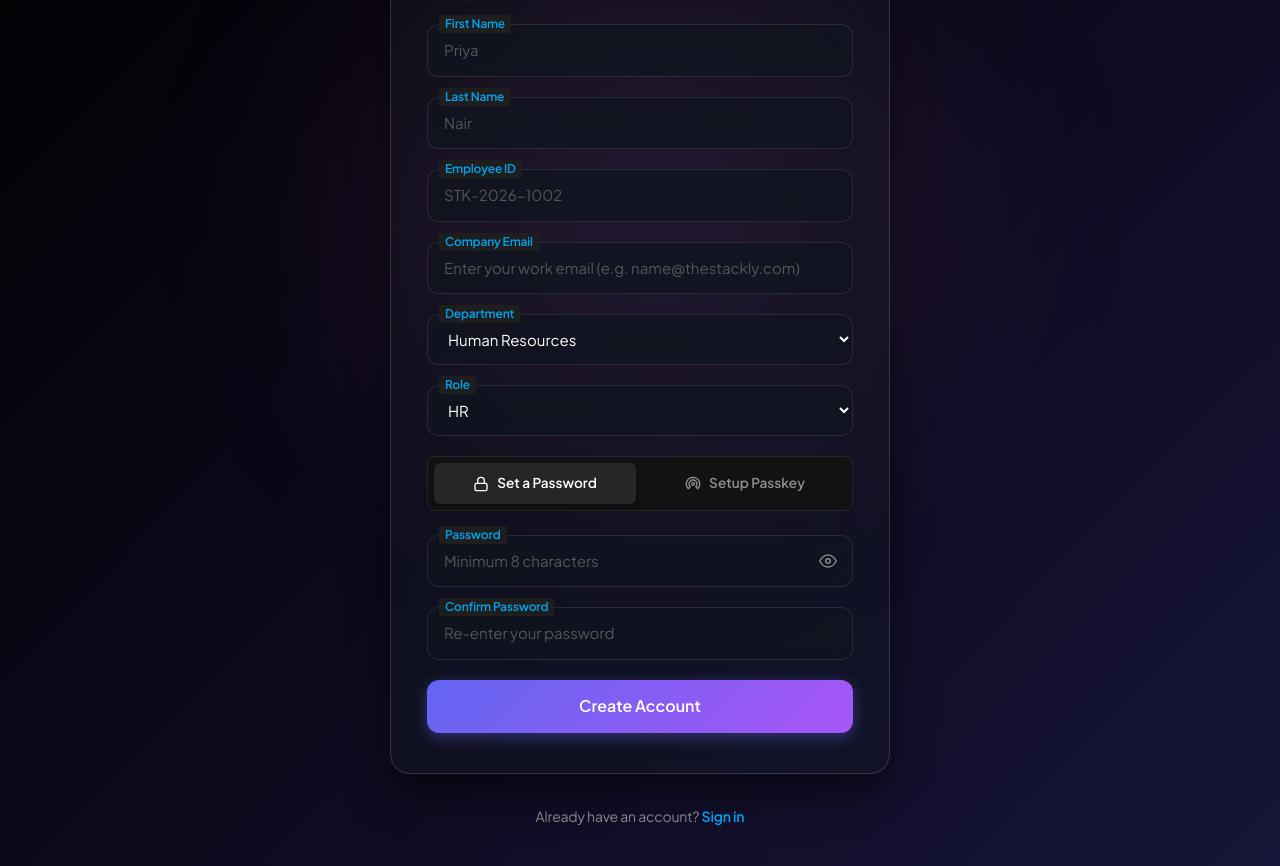
Test: Step 3: SignUpPage Component Unit Tests › 3.2 should validate full name presence
The width and height of the screenshot is (1280, 866).
(page scrolled)
Click the button "Create Account" at (640, 706), box [427,680,853,733]
(page scrolled)
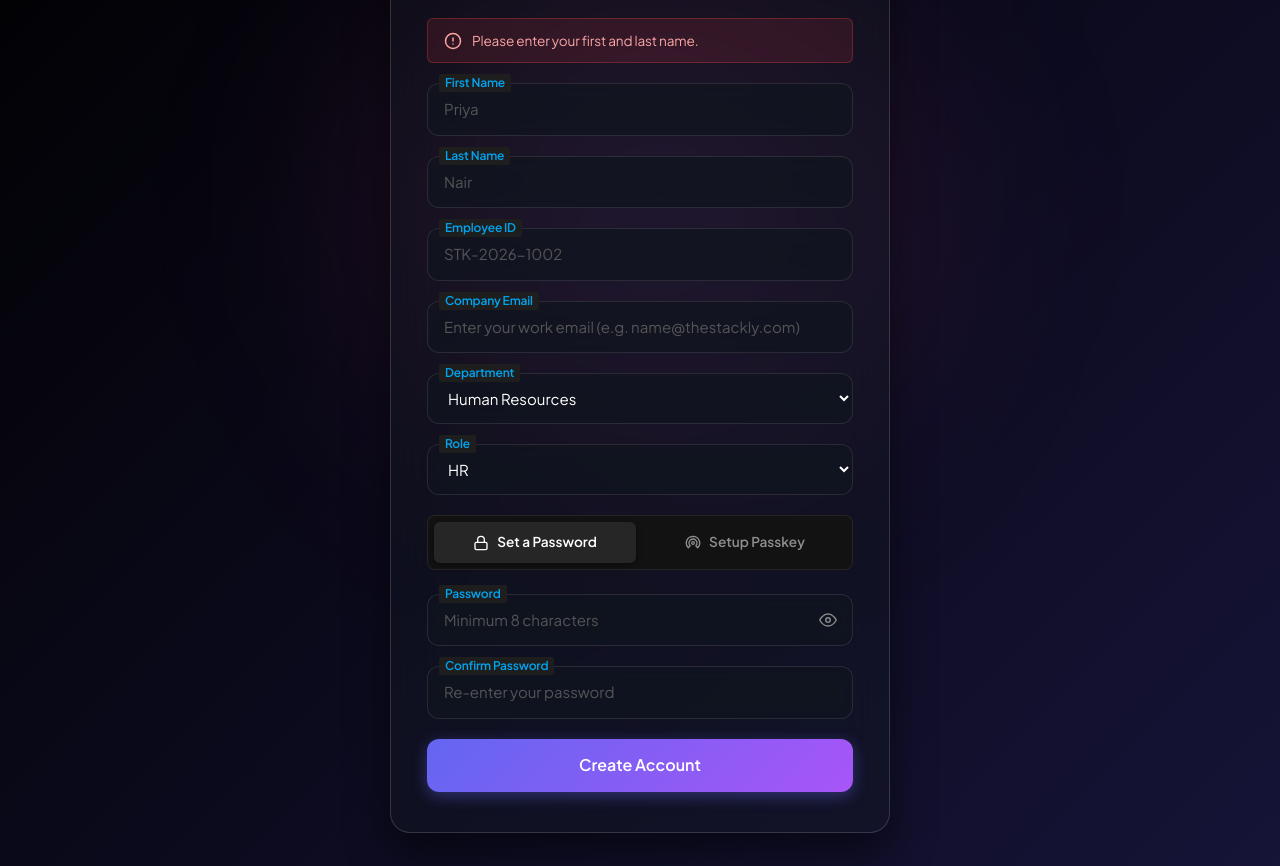
Expected: the text "Please enter your first and last name." is shown, [472,31,698,50]
